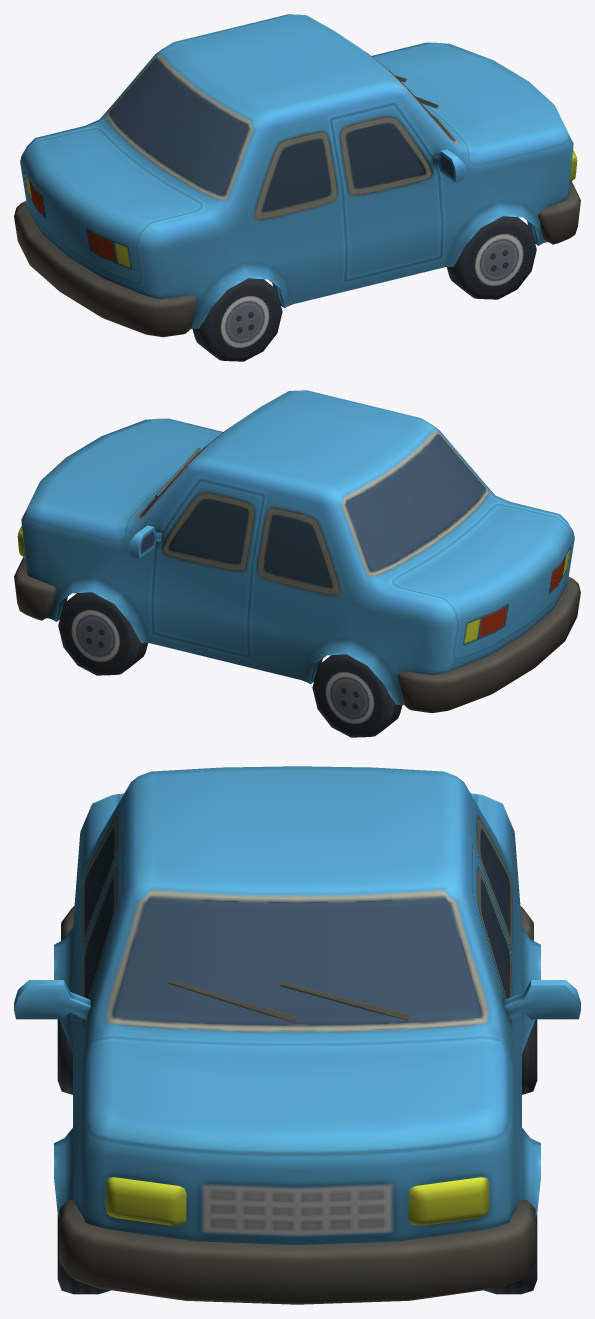
The model's file is Mesh_Item_03_Car_03.FBX.
3 views of the same model, one above another, from view 1: azimuth 30°, elevation 25°; view 2: azimuth 150°, elevation 25°; view 3: azimuth 270°, elevation 25° (orthographic). The views are drawn at different scales.
Parts seen in each view (by area): view 1: Mesh_Item_03_Car_03; view 2: Mesh_Item_03_Car_03; view 3: Mesh_Item_03_Car_03.
Boxes of the visible parts, x1,y1,x2,y2 form: Mesh_Item_03_Car_03: (14,14,580,361); Mesh_Item_03_Car_03: (14,390,580,737); Mesh_Item_03_Car_03: (14,766,580,1304).
Size of the model in its own units: 3.82 by 1.67 by 2.42.
Materials: 1 (1 with a texture image).
